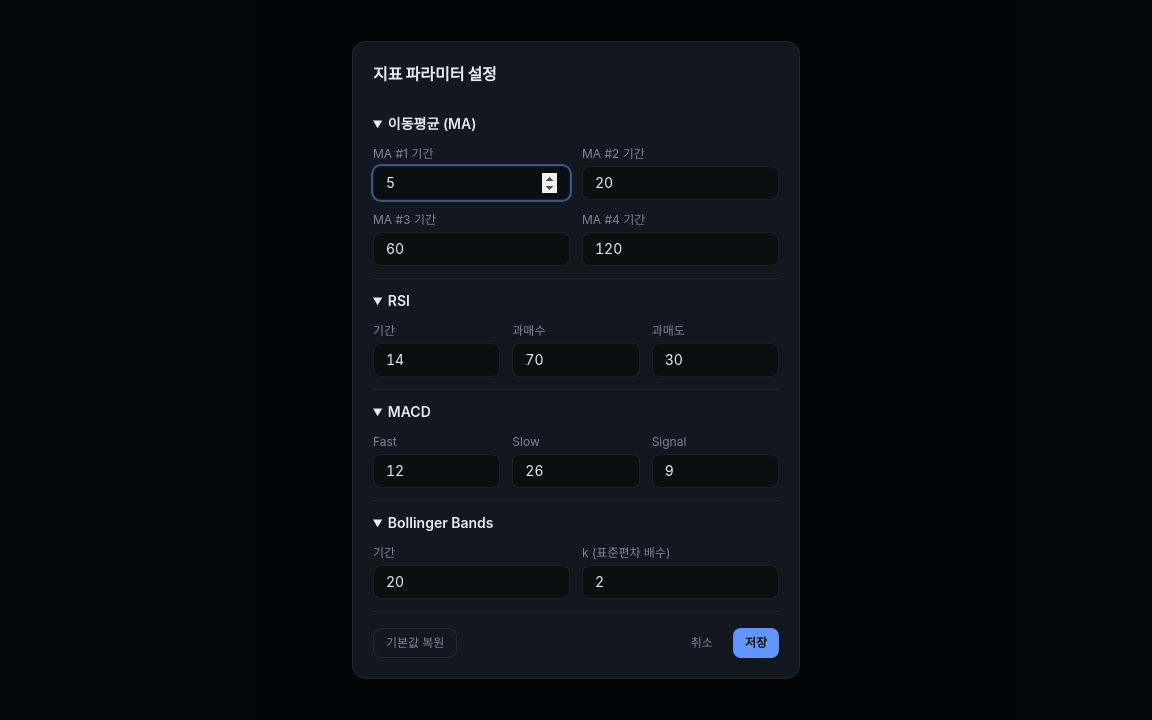
Scenario: IndicatorParametersDrawer › MACD fast >= slow 면 교차검증 에러
The width and height of the screenshot is (1152, 720).
Clear the number field labelled "Fast" at (437,471), box [373, 454, 500, 488]
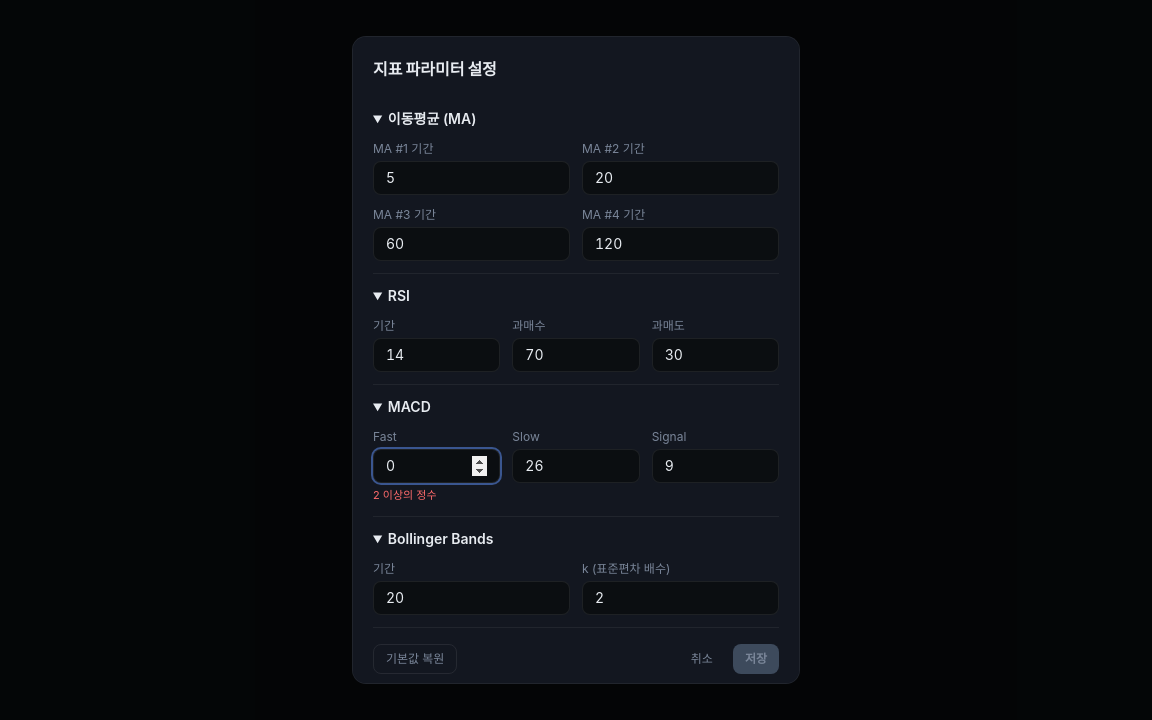
Type "30" into the number field labelled "Fast" at (437,466), box [373, 449, 500, 483]
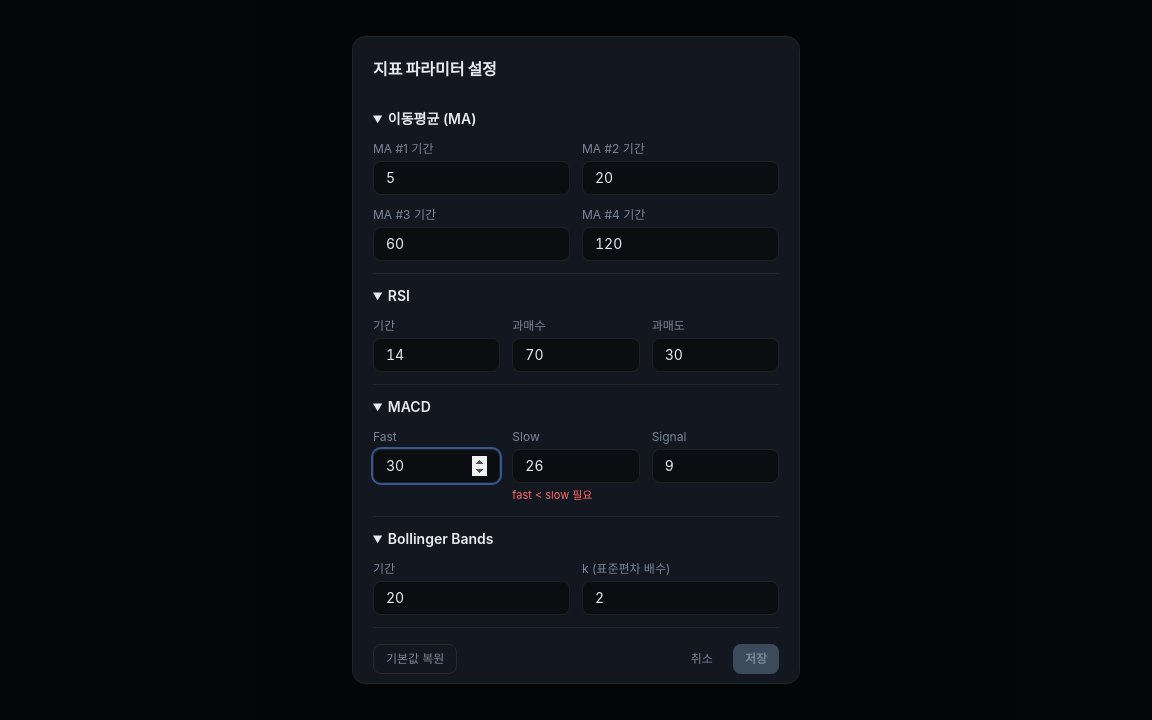
Check: the button "저장" is disabled, box [733, 644, 779, 674]
Check: the text "fast < slow 필요" is shown, box [512, 488, 592, 502]
